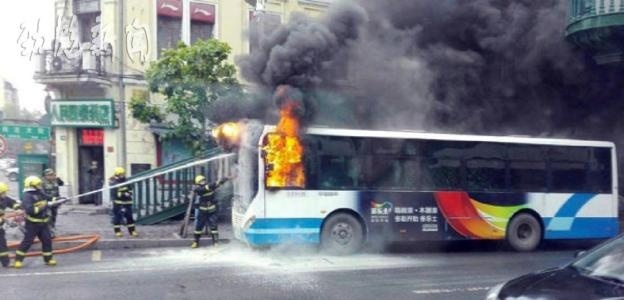fire: (218, 97, 309, 188), (260, 100, 307, 190)
